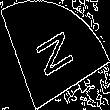N_SW: (31, 26, 79, 84)
